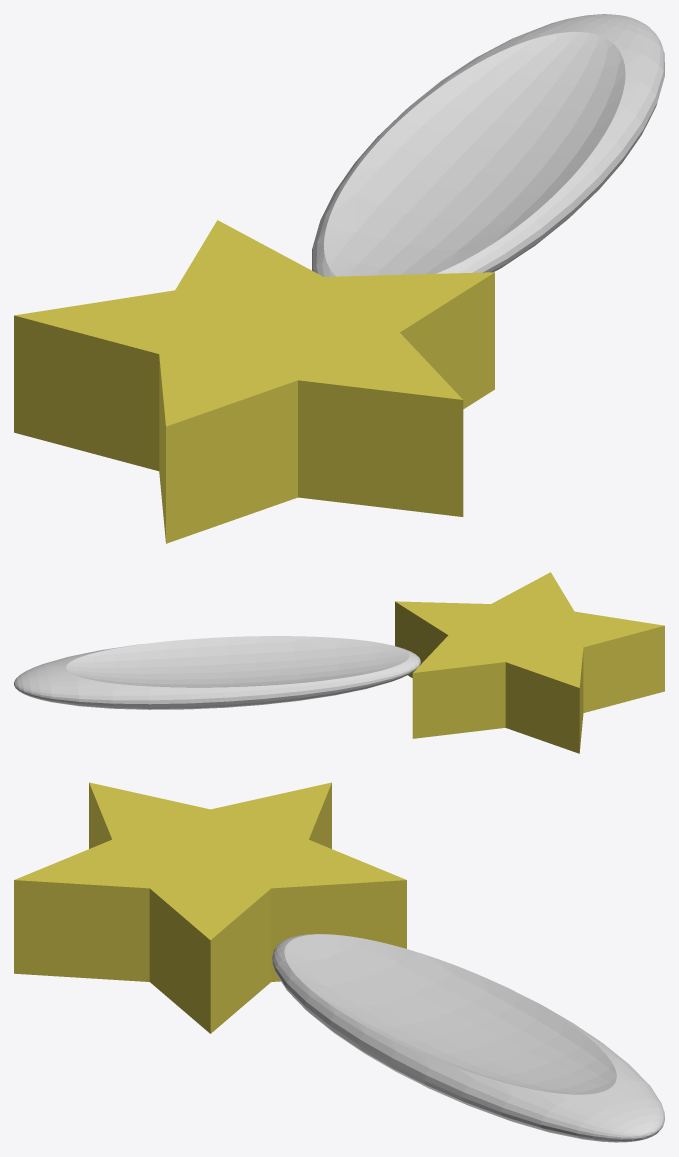
The model's file is tinker_shooting_star.glb.
3 views of the same model, one above another, from view 1: azimuth 30°, elevation 25°; view 2: azimuth 150°, elevation 25°; view 3: azimuth 270°, elevation 25° (orthographic). The views are drawn at different scales.
Parts seen in each view (by area): view 1: Mesh_Mesh_head_geo.001_lambert2SG.001; view 2: Mesh_Mesh_head_geo.001_lambert2SG.001; view 3: Mesh_Mesh_head_geo.001_lambert2SG.001.
Part boxes in pixels (x1,y1,x2,y2): Mesh_Mesh_head_geo.001_lambert2SG.001: (14,14,664,543); Mesh_Mesh_head_geo.001_lambert2SG.001: (14,572,664,753); Mesh_Mesh_head_geo.001_lambert2SG.001: (14,782,664,1142).
Bounding box in the file's own units: 73 × 10 × 63.
